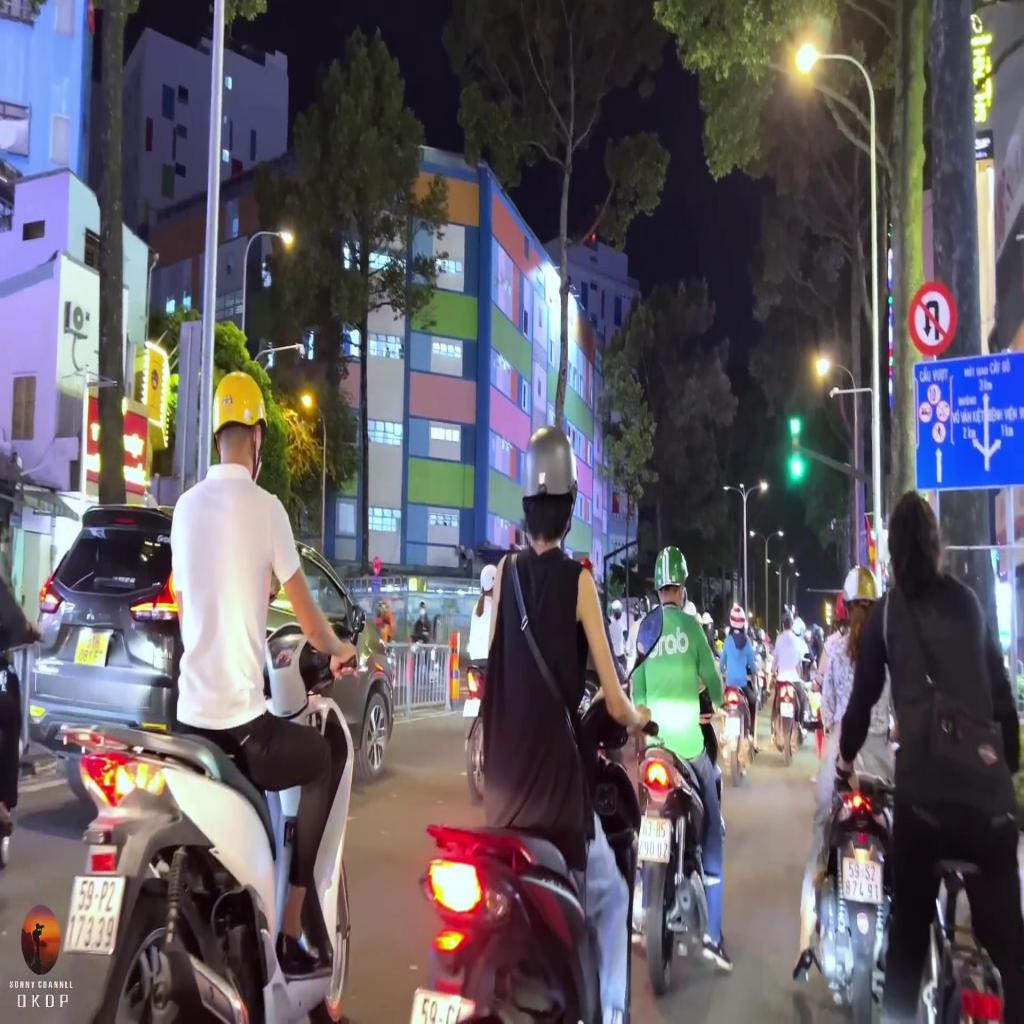cam_quay_dau_xe: (907, 277, 959, 357)
khac: (913, 349, 1023, 492)
